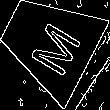M_NW: (18, 10, 79, 75)
